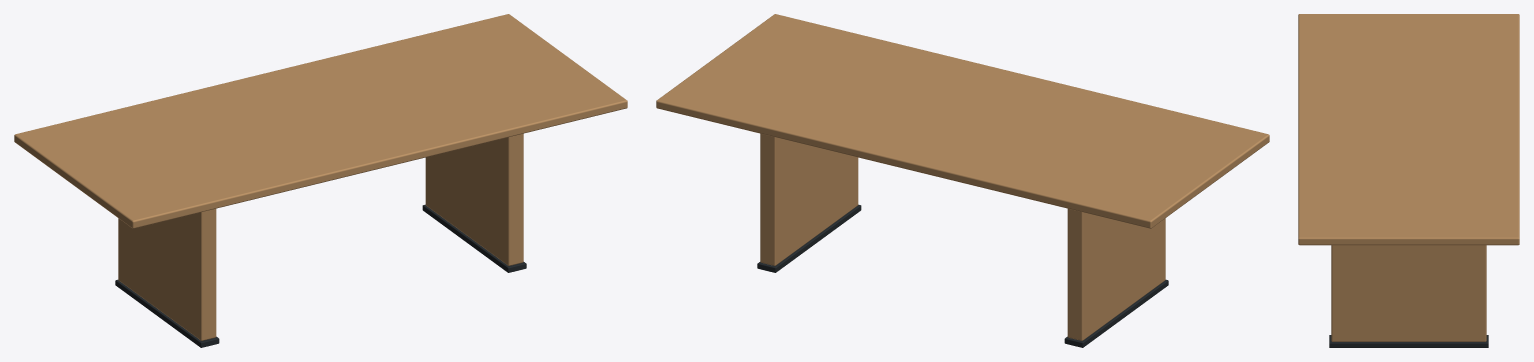
The model's file is meetingTable-6.glb.
The picture shows the model from 3 angles, left to right: view 1: azimuth 30°, elevation 25°; view 2: azimuth 150°, elevation 25°; view 3: azimuth 270°, elevation 25°; orthographic projection. The views are drawn at different scales.
Visible parts, largest first — view 1: meetingTable:6:archviz; view 2: meetingTable:6:archviz; view 3: meetingTable:6:archviz.
Part boxes in pixels (bbox=[...]): meetingTable:6:archviz: bbox=[14, 14, 627, 347]; meetingTable:6:archviz: bbox=[656, 14, 1269, 347]; meetingTable:6:archviz: bbox=[1298, 14, 1519, 347].
Size of the model in its own units: 2.4 by 0.74 by 1.
